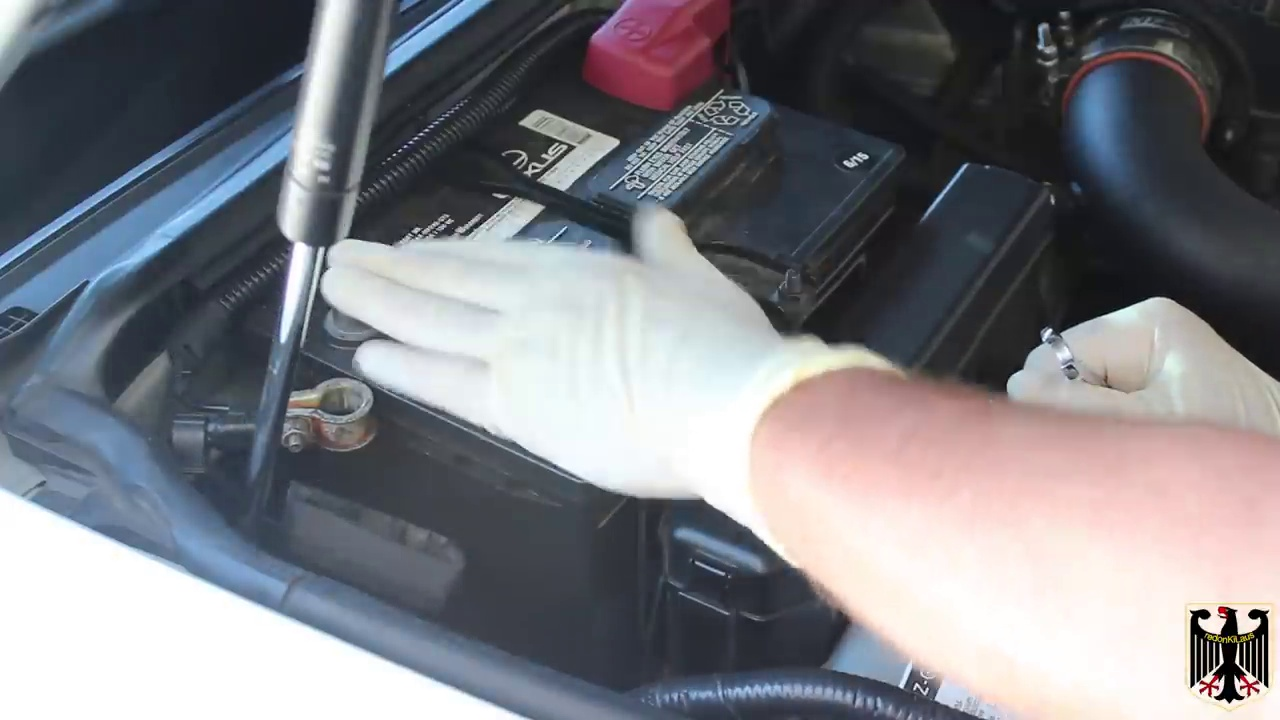battery: (276, 45, 910, 495)
neg_touched: (235, 219, 454, 452)
pos_connected: (569, 2, 745, 117)
